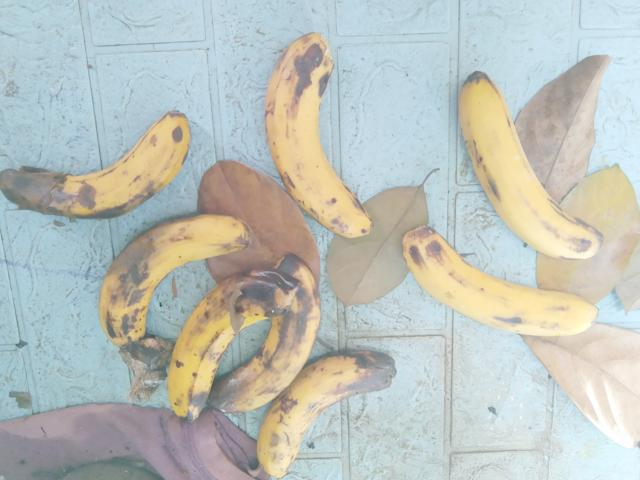overripe: (247, 19, 388, 244)
ripe: (441, 55, 610, 272), (394, 222, 610, 352)
rotten: (139, 261, 299, 442), (226, 331, 412, 479), (0, 104, 187, 233), (78, 201, 243, 332)
